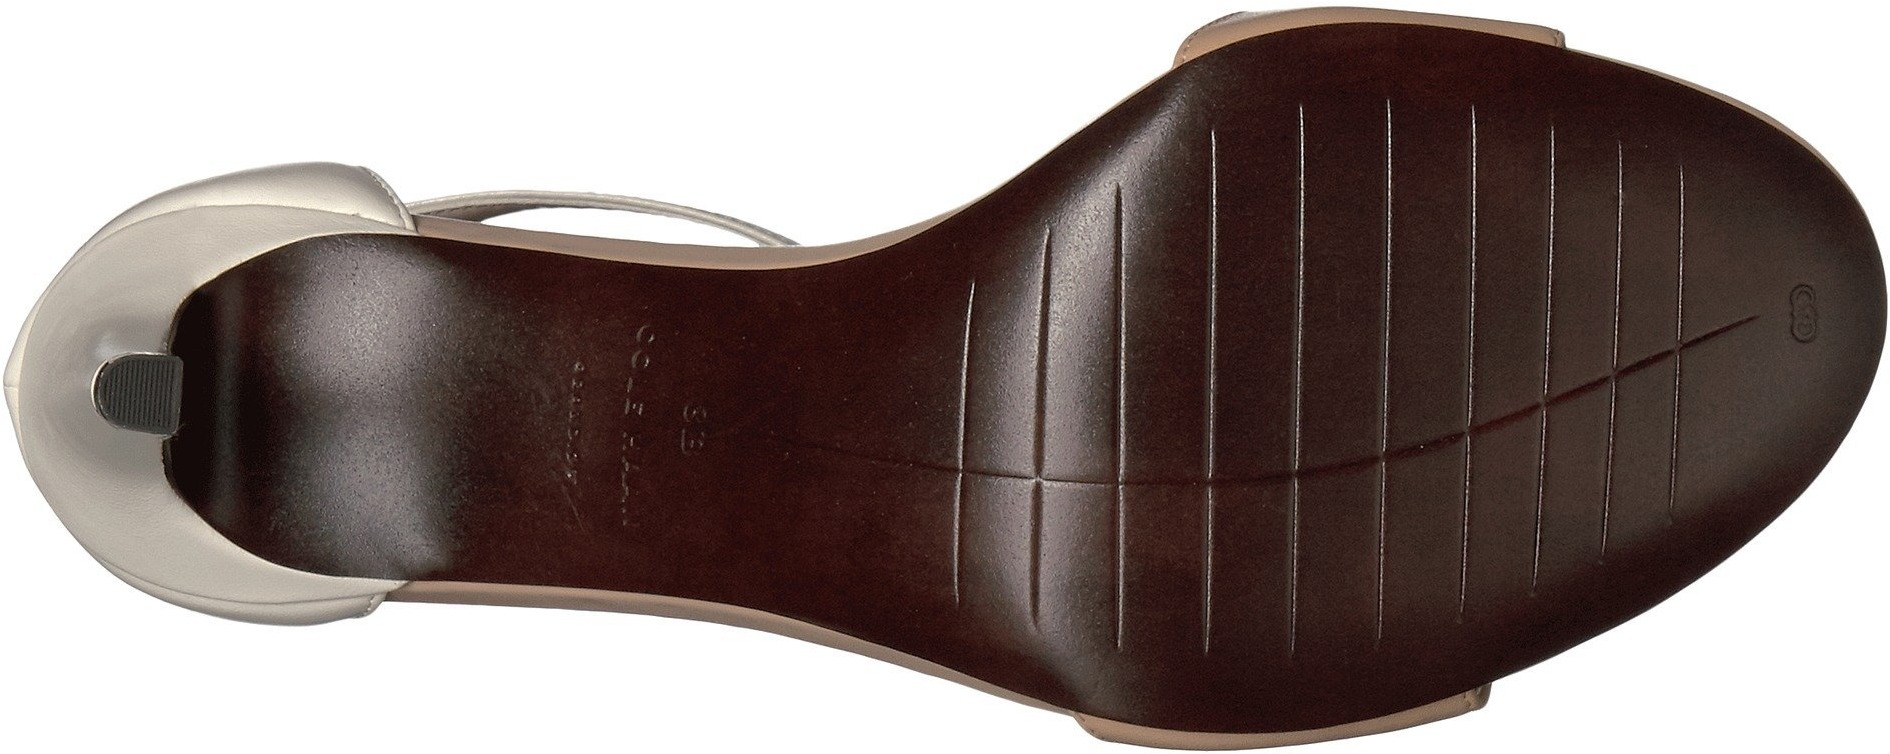other: (115, 357, 180, 425)
quad: (1205, 124, 1486, 411), (943, 275, 1196, 542), (1201, 418, 1438, 644), (1487, 134, 1702, 332), (1487, 341, 1695, 538)
